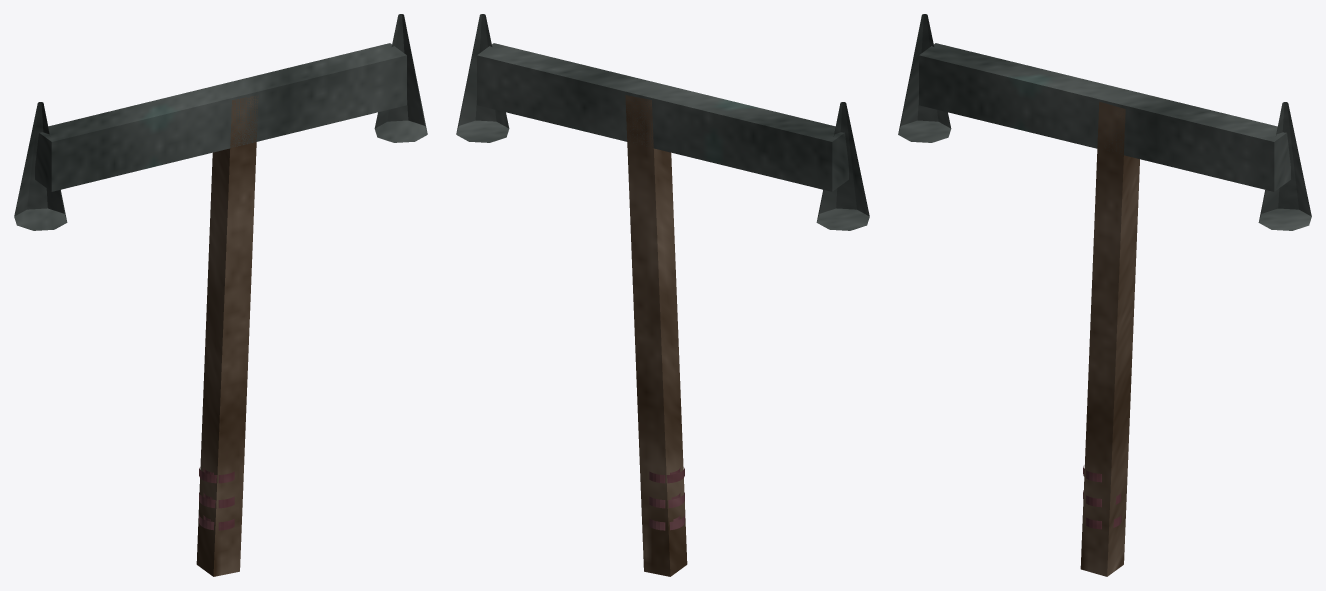
File: 0859_pickaxe_09.glb
3 views of the same model, side by side, from view 1: azimuth 30°, elevation 25°; view 2: azimuth 150°, elevation 25°; view 3: azimuth 330°, elevation 25° (orthographic).
Parts seen in each view (by area): view 1: iron, wood, cloth; view 2: iron, wood, cloth; view 3: iron, wood, cloth.
Boxes of the visible parts, x1=… form: iron: x1=14, y1=14, x2=427, y2=230; wood: x1=196, y1=96, x2=258, y2=576; cloth: x1=199, y1=468, x2=234, y2=530; iron: x1=456, y1=14, x2=869, y2=230; wood: x1=625, y1=95, x2=687, y2=576; cloth: x1=649, y1=468, x2=684, y2=530; iron: x1=898, y1=14, x2=1311, y2=230; wood: x1=1080, y1=101, x2=1139, y2=576; cloth: x1=1083, y1=466, x2=1121, y2=529.
Size of the model in its own units: 1.54 by 1.83 by 0.18.
3 materials, 3 textured.
